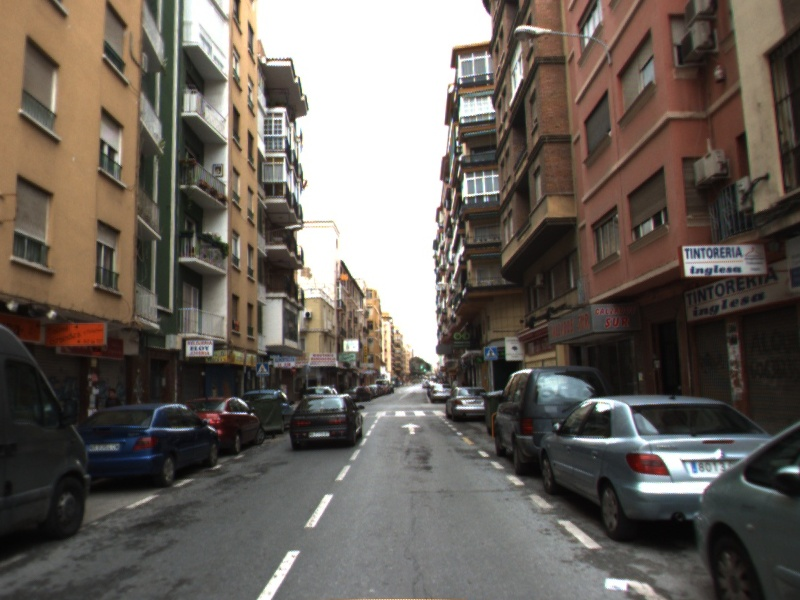STRAIGHT: (399, 421, 423, 436)
